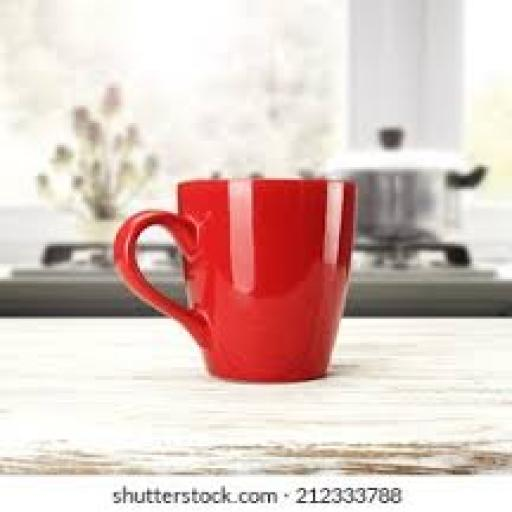red mug: (114, 181, 355, 382)
